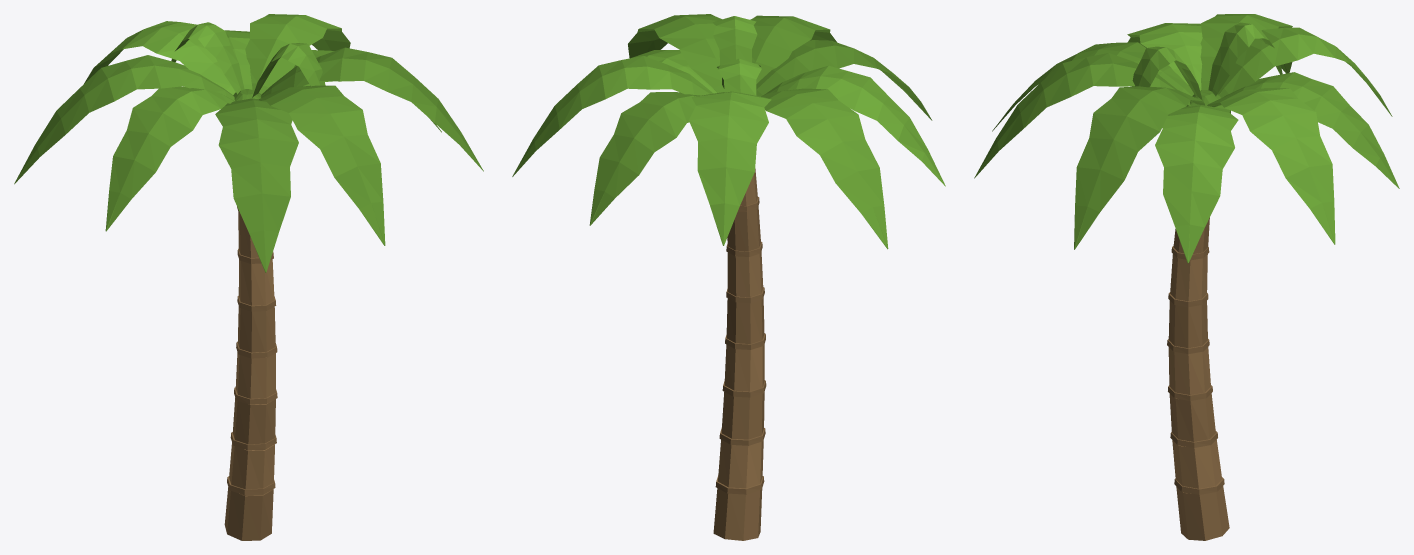
The model's file is 01_straight_palm.glb.
3 renders of one model, left to right at view 1: azimuth 30°, elevation 25°; view 2: azimuth 150°, elevation 25°; view 3: azimuth 270°, elevation 25°, orthographic.
Parts seen in each view (by area): view 1: 01_straight_palm; view 2: 01_straight_palm; view 3: 01_straight_palm.
Part boxes in pixels (left/top/right/bottom): 01_straight_palm: left=14, top=14, right=483, bottom=540; 01_straight_palm: left=512, top=14, right=945, bottom=540; 01_straight_palm: left=974, top=14, right=1399, bottom=540.
Size of the model in its own units: 3.03 by 3.81 by 2.96.
